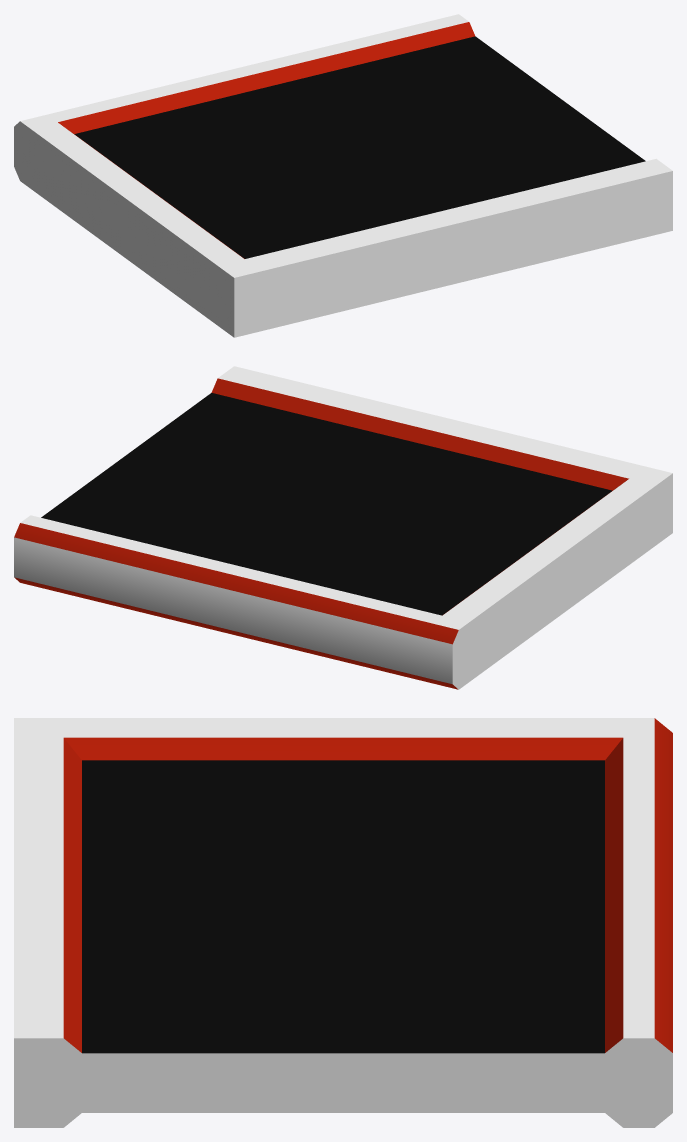
File: S_assete_basement_platform_1.fbx
3 views of the same model, one above another, from view 1: azimuth 30°, elevation 25°; view 2: azimuth 150°, elevation 25°; view 3: azimuth 270°, elevation 25° (orthographic). The views are drawn at different scales.
Visible parts, largest first — view 1: platforme_1; view 2: platforme_1; view 3: platforme_1.
Part boxes in pixels (<box>): platforme_1: <box>14,14,672,337</box>; platforme_1: <box>14,366,672,689</box>; platforme_1: <box>14,718,672,1127</box>.
Bounding box in the file's own units: 230 × 30 × 200.
